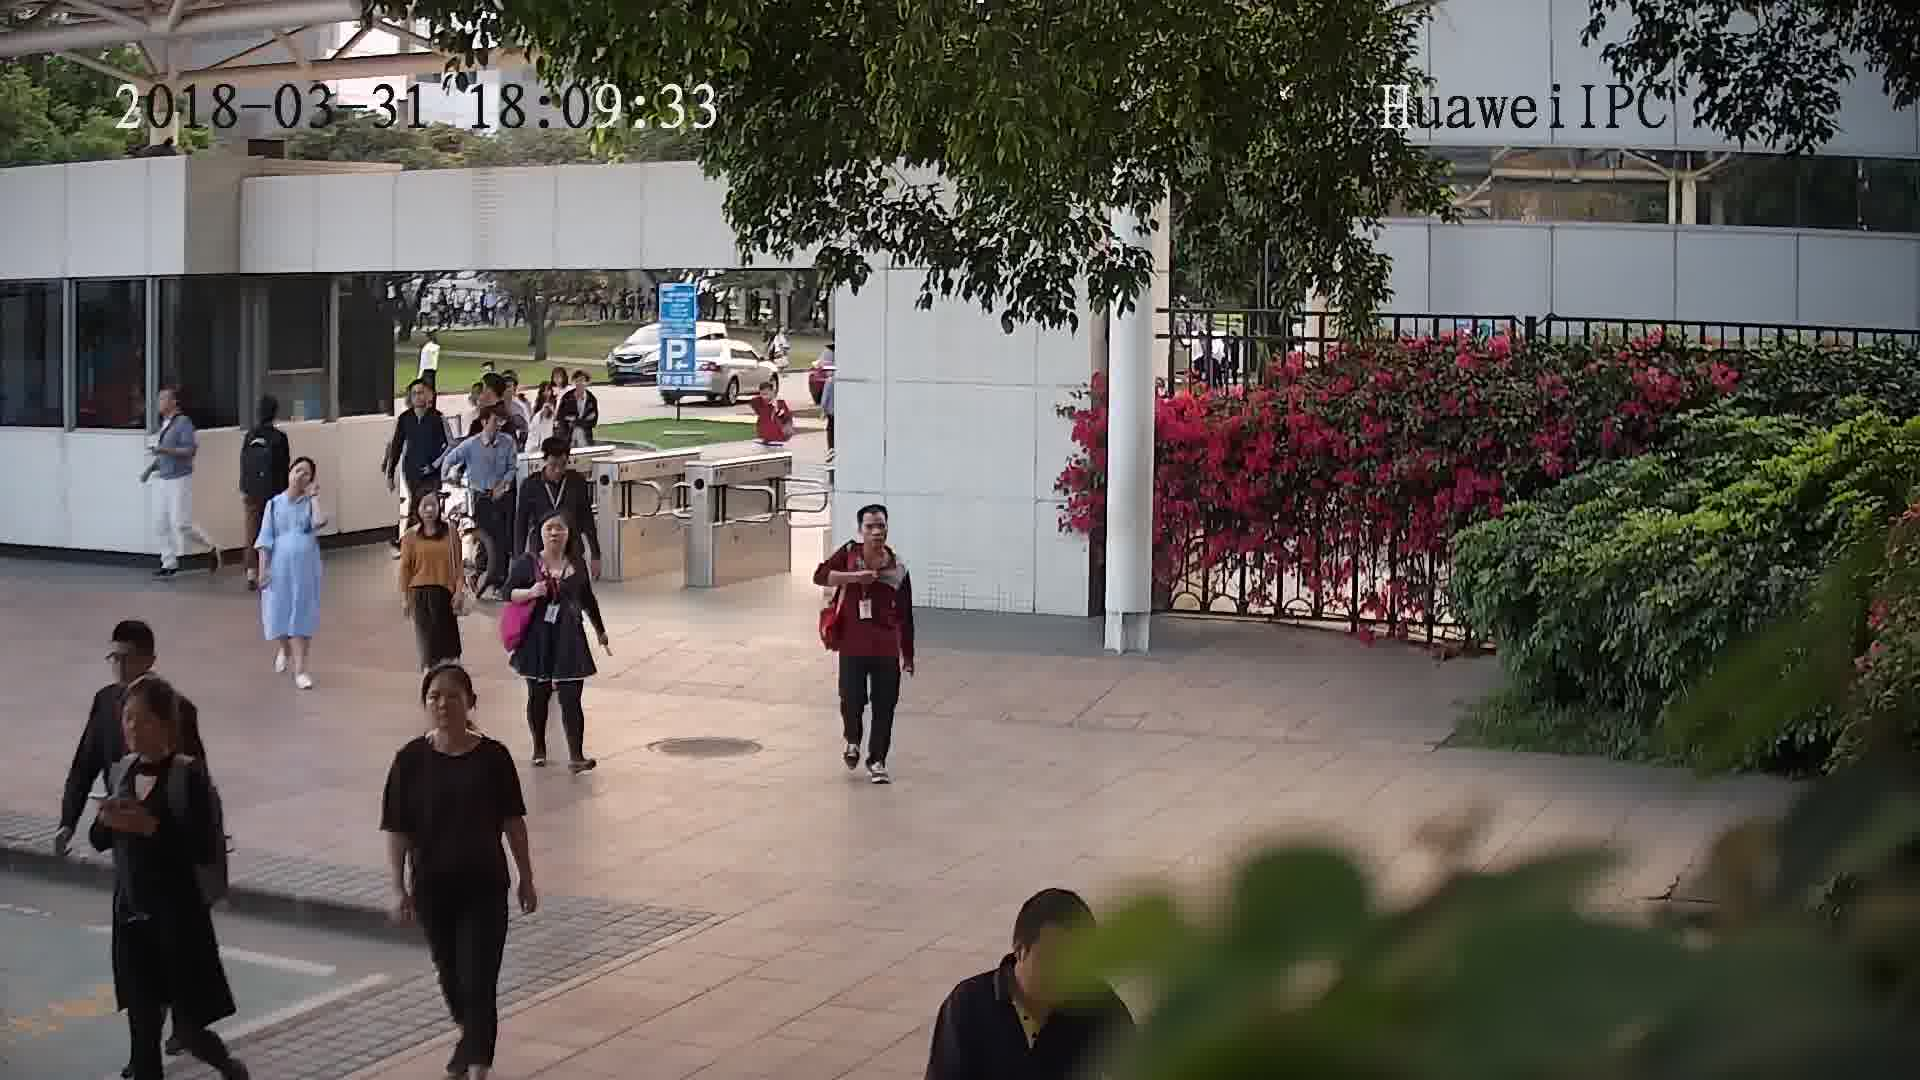face: (111, 694, 173, 756), (421, 677, 473, 729), (851, 507, 894, 552), (534, 519, 570, 559)
person: (944, 887, 1109, 1017), (386, 663, 520, 779), (96, 681, 210, 799), (92, 616, 188, 722), (826, 500, 908, 568), (523, 514, 587, 575), (524, 436, 588, 496), (403, 483, 460, 544), (269, 455, 325, 516), (464, 403, 521, 456), (469, 374, 529, 424), (243, 390, 291, 451), (152, 377, 199, 437), (397, 375, 449, 428), (749, 370, 793, 413), (563, 367, 597, 402)
